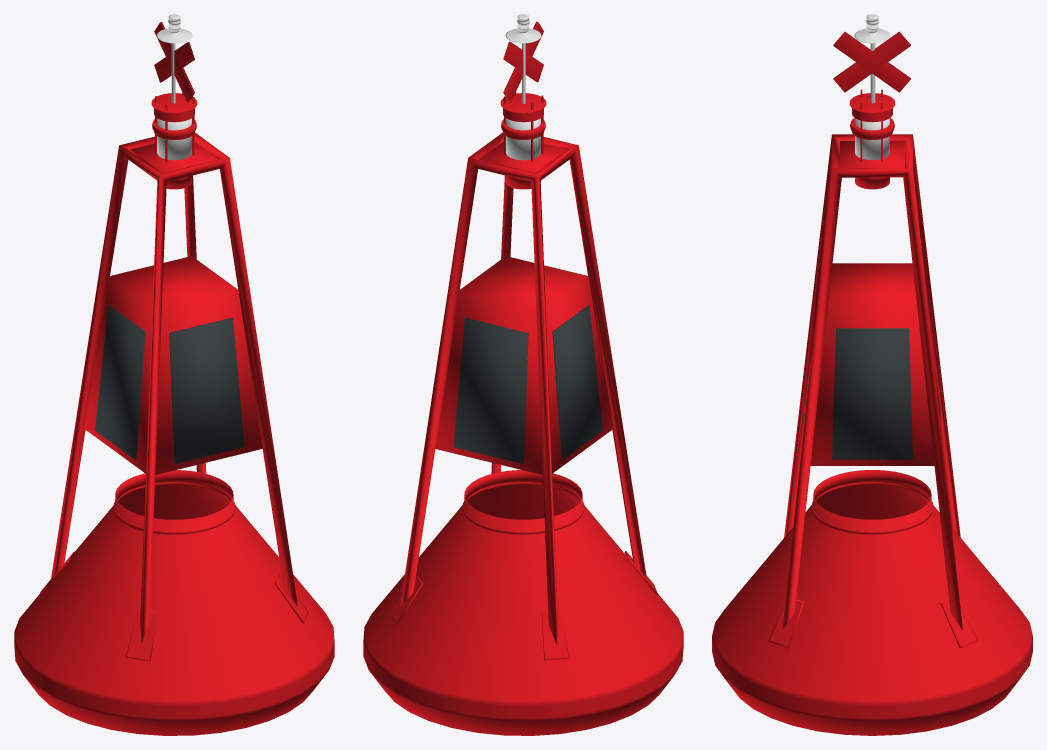
File: boyaMarina2.fbx
3 renders of one model, left to right at view 1: azimuth 30°, elevation 25°; view 2: azimuth 150°, elevation 25°; view 3: azimuth 270°, elevation 25°, orthographic.
Parts seen in each view (by area): view 1: Cylinder, Cube.002, Cube.020, Cube.019, Cube, Cylinder.003, Cylinder.002, Cylinder.008, Cube.007, Cube.008, Cylinder.006; view 2: Cylinder, Cube.002, Cube.022, Cube.019, Cube, Cylinder.003, Cylinder.007, Cylinder.002, Cube.007, Cube.008, Cylinder.006; view 3: Cylinder, Cube.002, Cube.021, Cube.007, Cube.008, Cube, Cylinder.003, Cylinder.002, Cylinder.009, Cylinder.010, Cylinder.006.
Boxes of the visible parts, x1,y1,x2,y2 form: Cylinder: (14,470,334,735); Cube.002: (51,132,297,642); Cube.020: (169,317,244,464); Cube.019: (95,305,145,459); Cube: (130,140,218,173); Cylinder.003: (151,93,197,122); Cylinder.002: (157,118,191,160); Cylinder.008: (125,610,157,661); Cube.007: (154,22,194,102); Cube.008: (154,42,194,82); Cylinder.006: (156,14,192,43); Cylinder: (363,470,683,735); Cube.002: (400,132,646,644); Cube.022: (453,317,528,463); Cube.019: (552,305,602,460); Cube: (479,141,567,173); Cylinder.003: (500,93,546,122); Cylinder.007: (541,610,569,660); Cylinder.002: (506,118,540,160); Cube.007: (503,41,543,82); Cube.008: (503,21,543,102); Cylinder.006: (505,14,541,43); Cylinder: (712,470,1032,735); Cube.002: (782,134,962,630); Cube.021: (832,328,912,459); Cube.007: (833,31,910,92); Cube.008: (833,32,910,92); Cube: (840,140,904,168); Cylinder.003: (849,93,895,122); Cylinder.002: (855,118,889,160); Cylinder.009: (768,599,804,648); Cylinder.010: (940,599,977,648); Cylinder.006: (854,14,890,43).
Bounding box in the file's own units: 602 × 1365 × 602.
